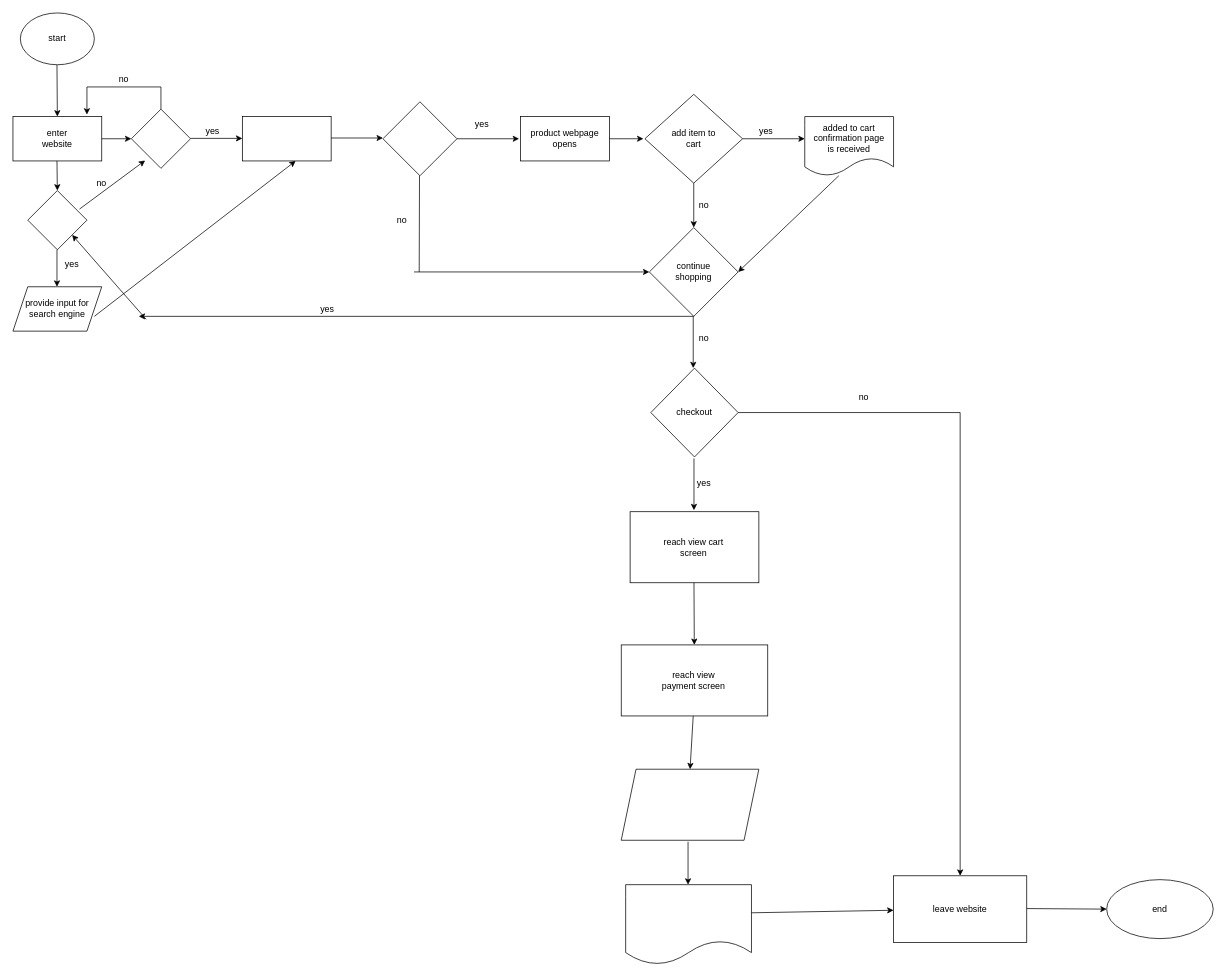
Image size: 1226x978. Some labels were removed from this diagram. Each missing label, with the centre of its shape:
explore products on home page: the point at 161,138
give/input payment information: the point at 689,804
look over products: the point at 286,138
receive order confirmation and email confirmation: the point at 688,924
search for product: the point at 57,220
view specific product: the point at 419,138
